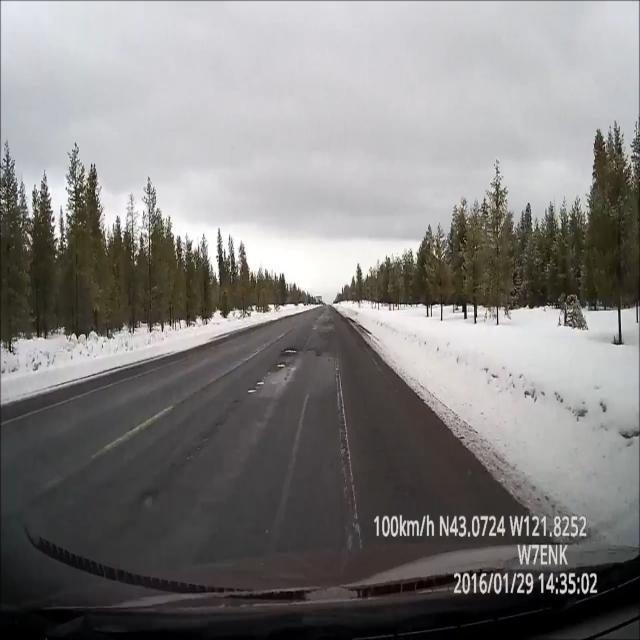Pothole: (268, 341, 298, 399)
